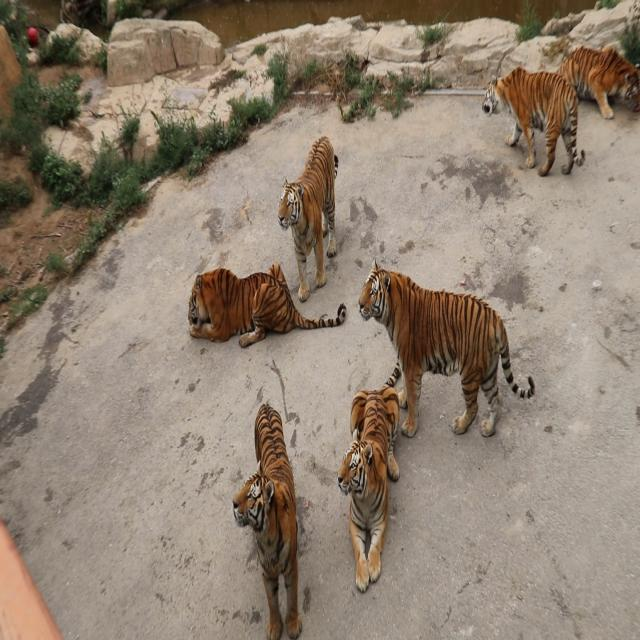Tiger: (358, 256, 536, 439), (232, 402, 300, 640), (336, 358, 403, 592), (271, 121, 348, 302), (188, 261, 346, 348), (482, 65, 584, 176), (555, 44, 640, 119)
